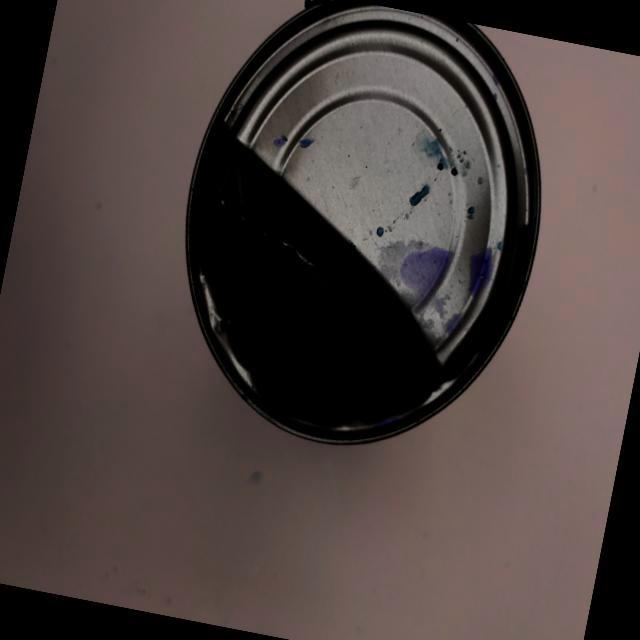metal: (133, 0, 587, 490)
